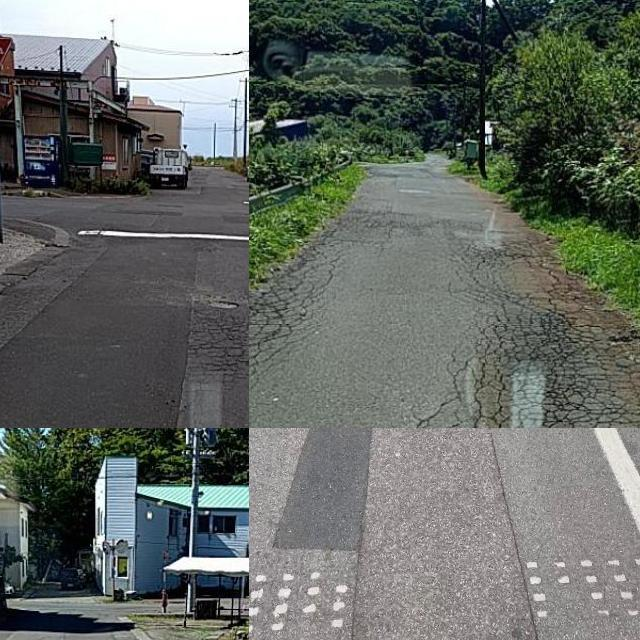Retak Buaya: (443, 249, 640, 428), (249, 226, 352, 379), (186, 310, 249, 386)
Sambungan: (272, 428, 536, 640), (0, 254, 200, 428)
